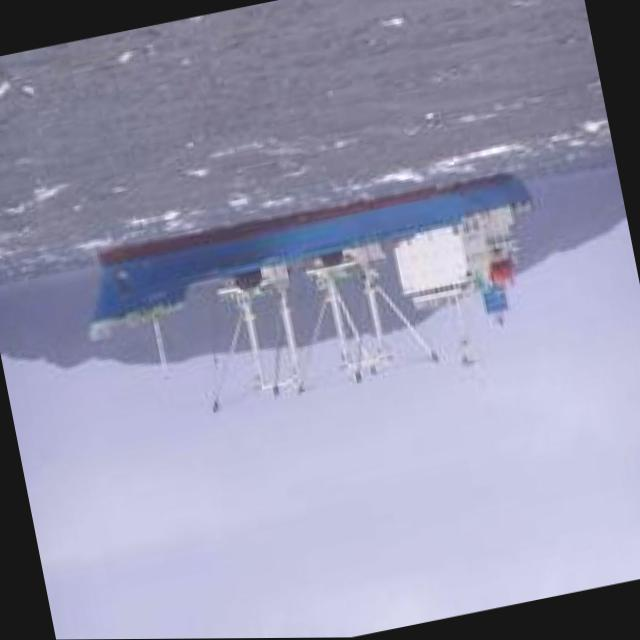ship2: (89, 172, 534, 416)
